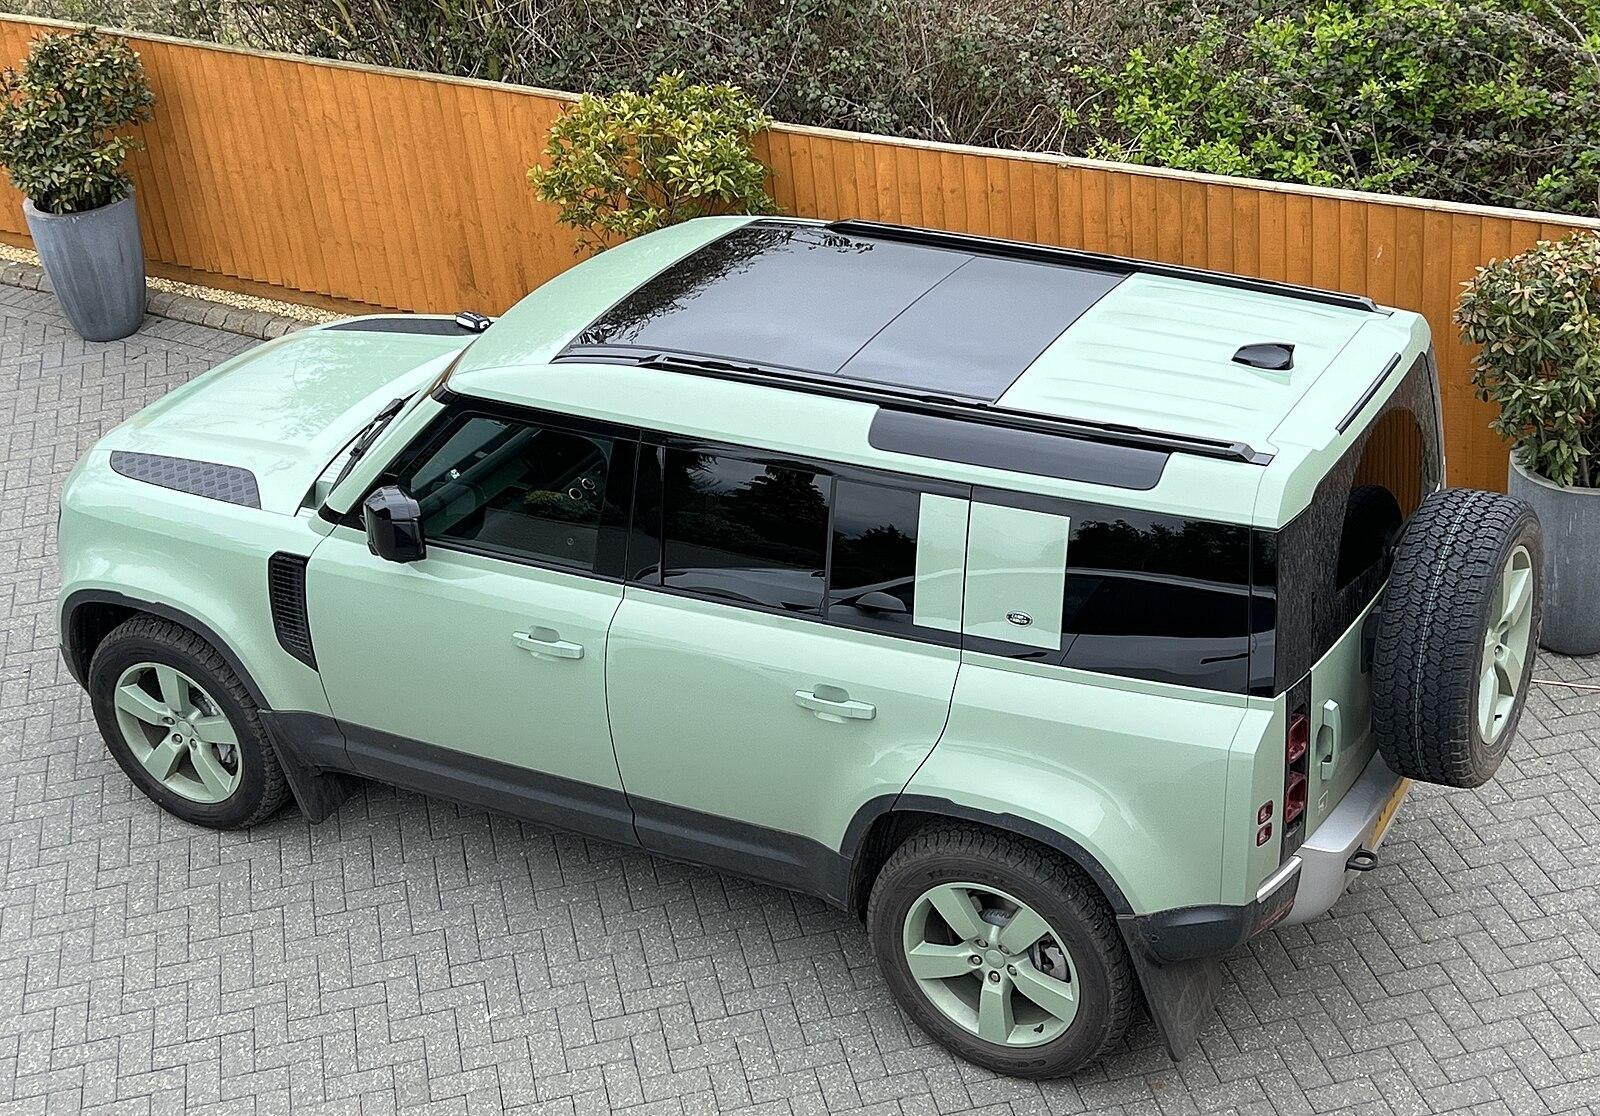Car: (46, 205, 1560, 1097)
